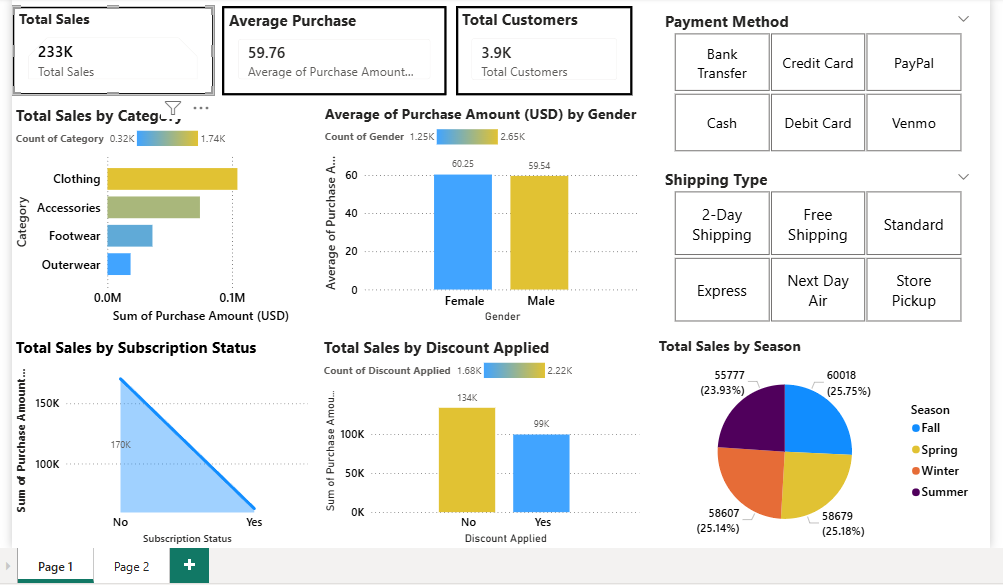

The page's visual inventory and layout, read from the dashboard file:
{"tool":"powerbi","page":{"name":"Page 1","canvas":[1280,720],"ordinal":0},"visuals":[{"type":"cardVisual","title":"Total Sales","fields":{"Data":["Sum(cleaned_data.Purchase Amount (USD))"]},"box":[0,10.2,264.9,117.1],"z":0},{"type":"cardVisual","title":"Average Purchase","fields":{"Data":["Avg(cleaned_data.Purchase Amount (USD))"]},"box":[275.1,10.2,294.1,117.1],"z":1000},{"type":"cardVisual","title":"Total Customers","fields":{"Data":["CountNonNull(cleaned_data.Customer ID)"]},"box":[581,10.2,231.2,117.1],"z":2000},{"type":"clusteredBarChart","title":"Total Sales by Category","fields":{"Category":["cleaned_data.Category"],"Y":["Sum(cleaned_data.Purchase Amount (USD))"]},"box":[0,138.2,391.7,292.3],"z":3000},{"type":"columnChart","fields":{"Category":["cleaned_data.Gender"],"Y":["Avg(cleaned_data.Purchase Amount (USD))"]},"box":[403.9,139,422.9,291.2],"z":4000},{"type":"pieChart","title":"Total Sales by Season","fields":{"Category":["cleaned_data.Season"],"Y":["Sum(cleaned_data.Purchase Amount (USD))"]},"box":[842.4,442.1,424.8,277.9],"z":5000},{"type":"stackedAreaChart","title":"Total Sales by Subscription Status","fields":{"Category":["cleaned_data.Subscription Status"],"Y":["Sum(cleaned_data.Purchase Amount (USD))"]},"box":[0,442,392.2,278],"z":6000},{"type":"columnChart","title":"Total Sales by Discount Applied","fields":{"Category":["cleaned_data.Discount Applied"],"Y":["Sum(cleaned_data.Purchase Amount (USD))"]},"box":[403.2,442.1,423.4,277.9],"z":7000},{"type":"slicer","fields":{"Values":["cleaned_data.Payment Method"]},"box":[842.4,10.1,424.8,197.3],"z":9000},{"type":"slicer","fields":{"Values":["cleaned_data.Shipping Type"]},"box":[842.4,217.4,424.8,213.1],"z":10000}]}

Visuals, with their boxes on the page's 1280x720 design canvas (x1, y1, x2, y2). These are canvas units, not pixel positions in the 1003x585 screenshot, which may show the page scaled, cropped or inside an application window:
"Total Sales" cardVisual: left=0, top=10, right=265, bottom=127
"Average Purchase" cardVisual: left=275, top=10, right=569, bottom=127
"Total Customers" cardVisual: left=581, top=10, right=812, bottom=127
"Total Sales by Category" clusteredBarChart: left=0, top=138, right=392, bottom=430
columnChart - cleaned_data.Gender x Avg(cleaned_data.Purchase Amount (USD)): left=404, top=139, right=827, bottom=430
"Total Sales by Season" pieChart: left=842, top=442, right=1267, bottom=720
"Total Sales by Subscription Status" stackedAreaChart: left=0, top=442, right=392, bottom=720
"Total Sales by Discount Applied" columnChart: left=403, top=442, right=827, bottom=720
slicer - cleaned_data.Payment Method: left=842, top=10, right=1267, bottom=207
slicer - cleaned_data.Shipping Type: left=842, top=217, right=1267, bottom=430
